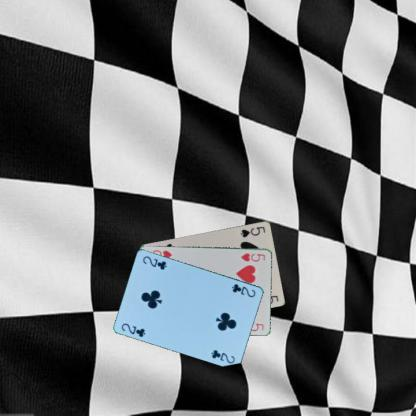2c: (229, 281, 257, 299), (119, 321, 147, 338)
5h: (239, 250, 266, 263)
5s: (238, 224, 266, 238)
